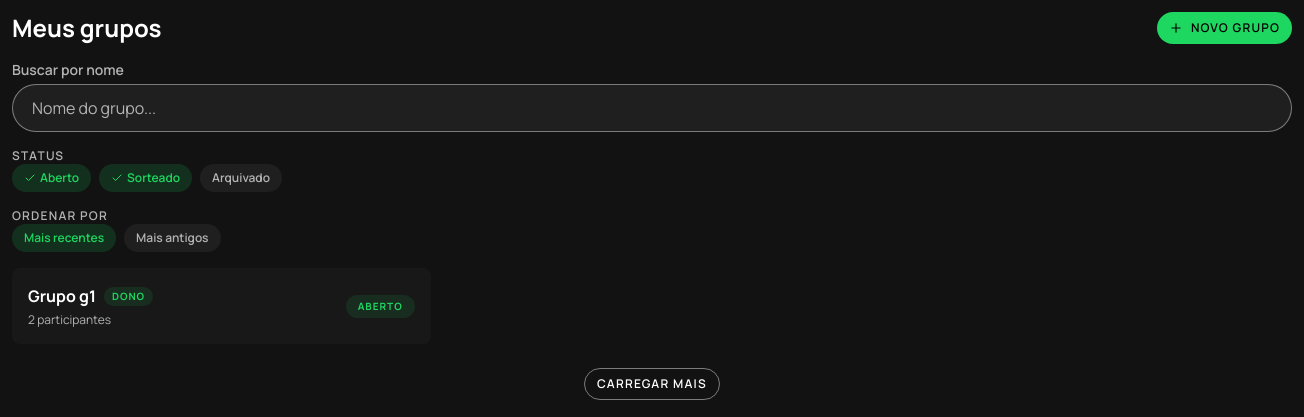
Test: GroupList › appends next page when clicking "Carregar mais"
Expected: the heading "Grupo g1" is shown, 28,284 -> 96,308
What coordinates should you click on to do the following:
click the button "Carregar mais"
I would click on:
 (652, 384)
Its box is 584,368 -> 720,400.
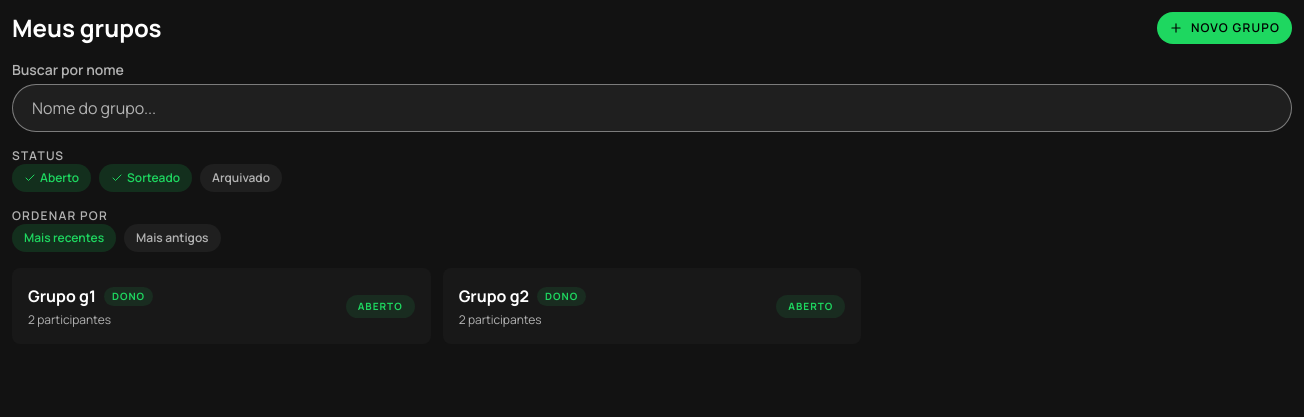
Expected: the heading "Grupo g1" is shown, 28,284 -> 96,308
Result: the heading "Grupo g2" is shown at 459,284 -> 529,308
